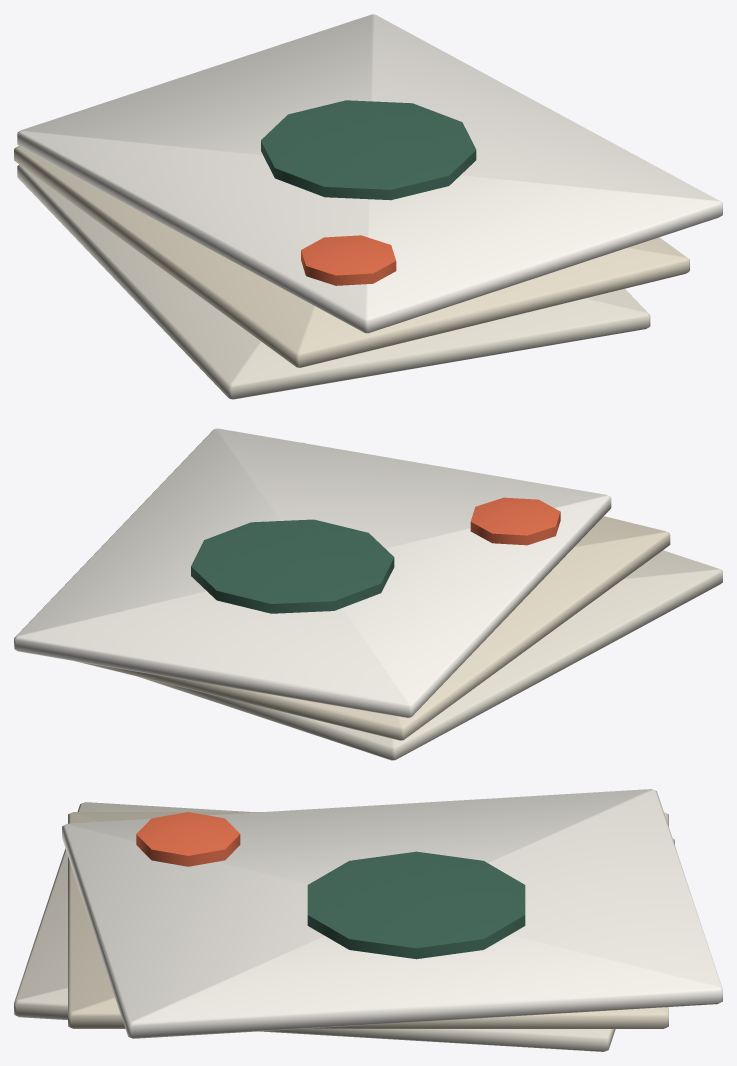
The model's file is merch-sticker-pack.glb.
3 views of the same model, one above another, from view 1: azimuth 30°, elevation 25°; view 2: azimuth 150°, elevation 25°; view 3: azimuth 270°, elevation 25° (orthographic). The views are drawn at different scales.
Parts seen in each view (by area): view 1: merch-sticker-pack; view 2: merch-sticker-pack; view 3: merch-sticker-pack.
Part boxes in pixels (x1,y1,x2,y2): merch-sticker-pack: [14, 14, 722, 399]; merch-sticker-pack: [14, 428, 722, 760]; merch-sticker-pack: [14, 789, 722, 1051].
Size of the model in its own units: 0.105 by 0.014 by 0.118.
